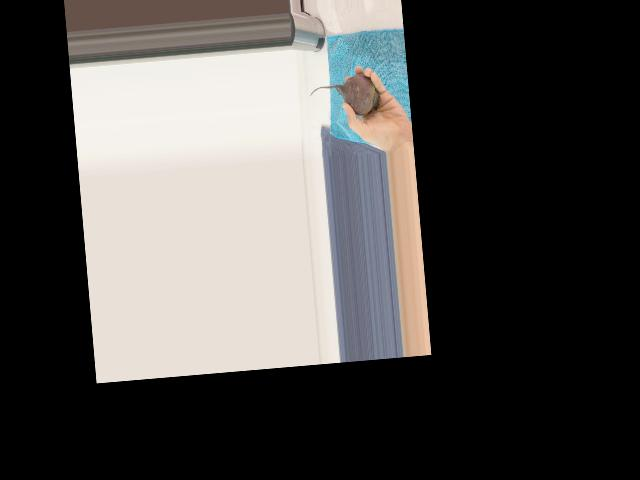beet: (308, 71, 382, 119)
